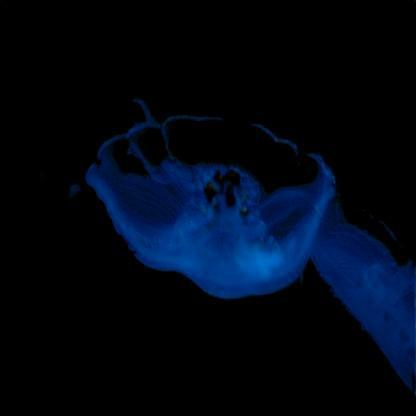Speckle: (86, 105, 334, 299), (311, 193, 410, 399)
